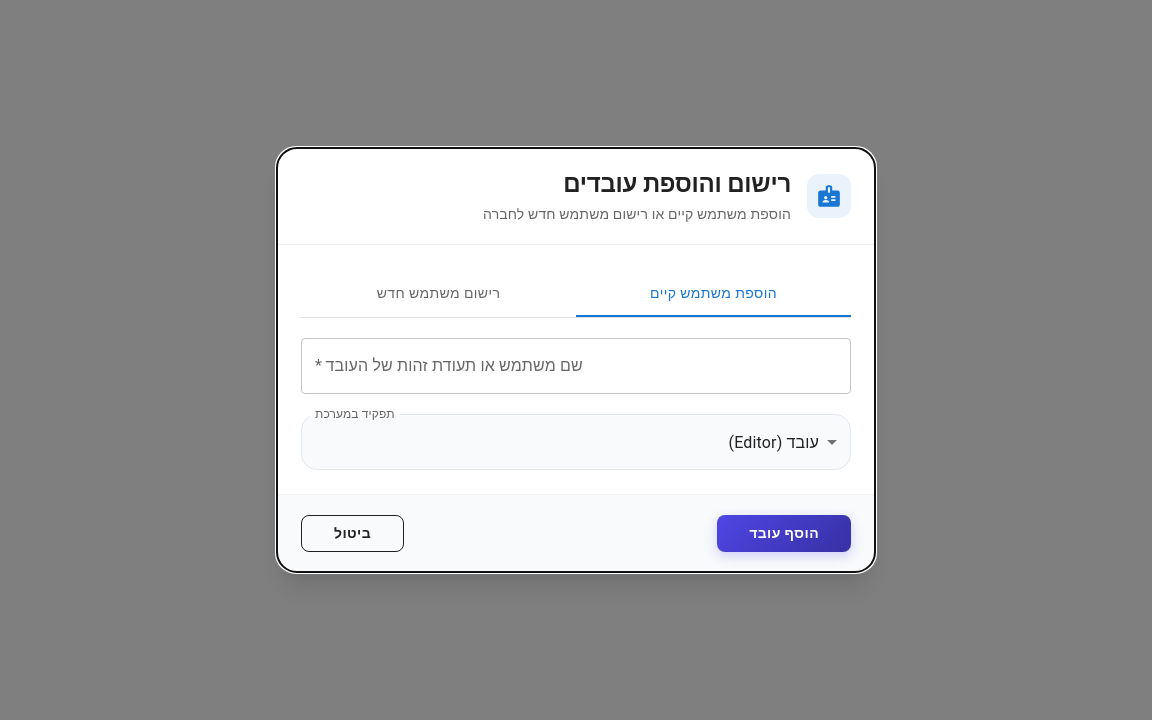
Test: RegisterEmployeeDialog › supports switching tabs between add existing user and registering a new user
Check: the field labelled "שם משתמש או תעודת זהות של העובד *" is shown, box [301,338,851,394]
Note: Click on "רישום משתמש חדש" tab
Click the tab "רישום משתמש חדש" at {"x": 438, "y": 293}, box [301,269,576,317]
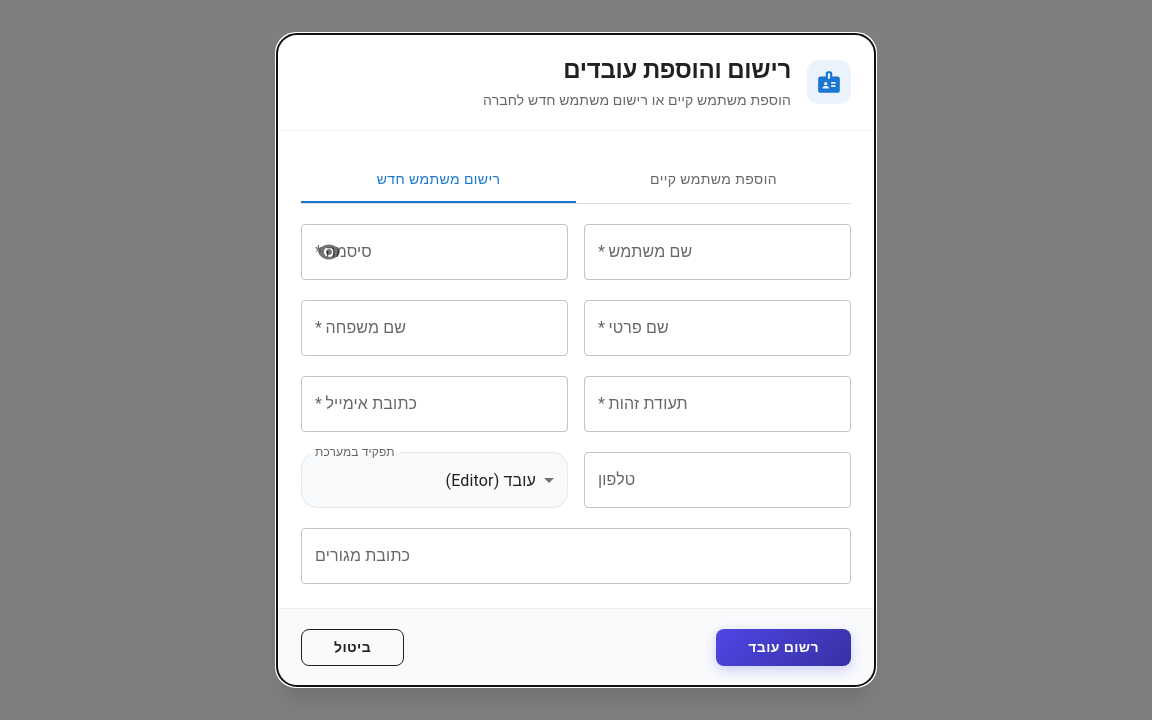
Check: the field labelled "שם משתמש *" is shown, box [584,224,851,280]
Check: the field labelled "כתובת אימייל *" is shown, box [301,376,568,432]
Check: the field labelled "תעודת זהות *" is shown, box [584,376,851,432]
